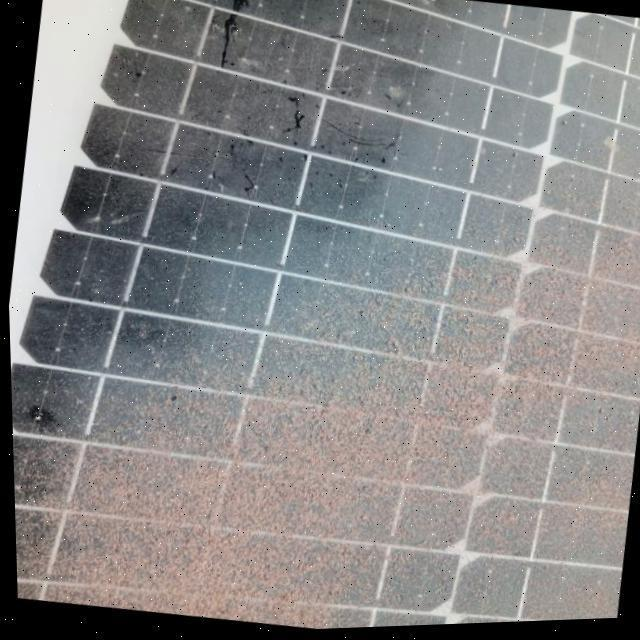Surface Contaminant: (9, 0, 640, 631)
